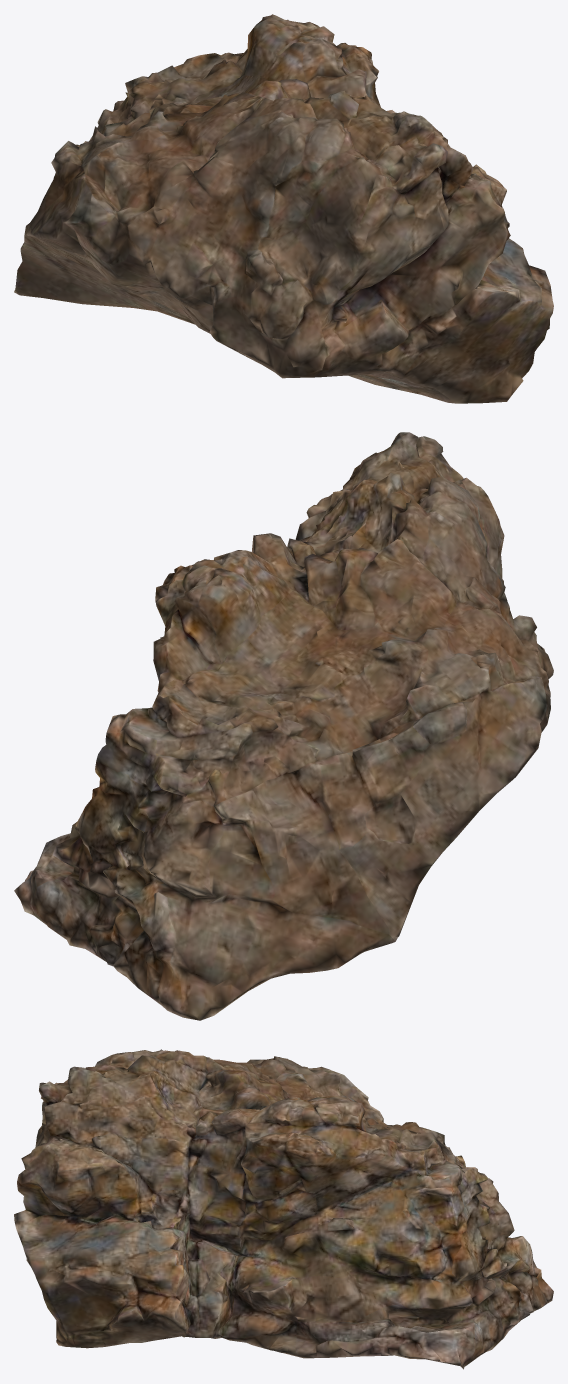
Rendered from boulder_01.glb.
3 views of the same model, one above another, from view 1: azimuth 30°, elevation 25°; view 2: azimuth 150°, elevation 25°; view 3: azimuth 270°, elevation 25° (orthographic). The views are drawn at different scales.
Parts seen in each view (by area): view 1: boulder_01; view 2: boulder_01; view 3: boulder_01.
Boxes of the visible parts, box(x1,y1,x2,y2) form: boulder_01: box(14, 14, 553, 403); boulder_01: box(14, 432, 553, 1020); boulder_01: box(14, 1049, 553, 1369).
Bounding box in the file's own units: 1.27 × 1 × 1.83.
1 material, 1 textured.
